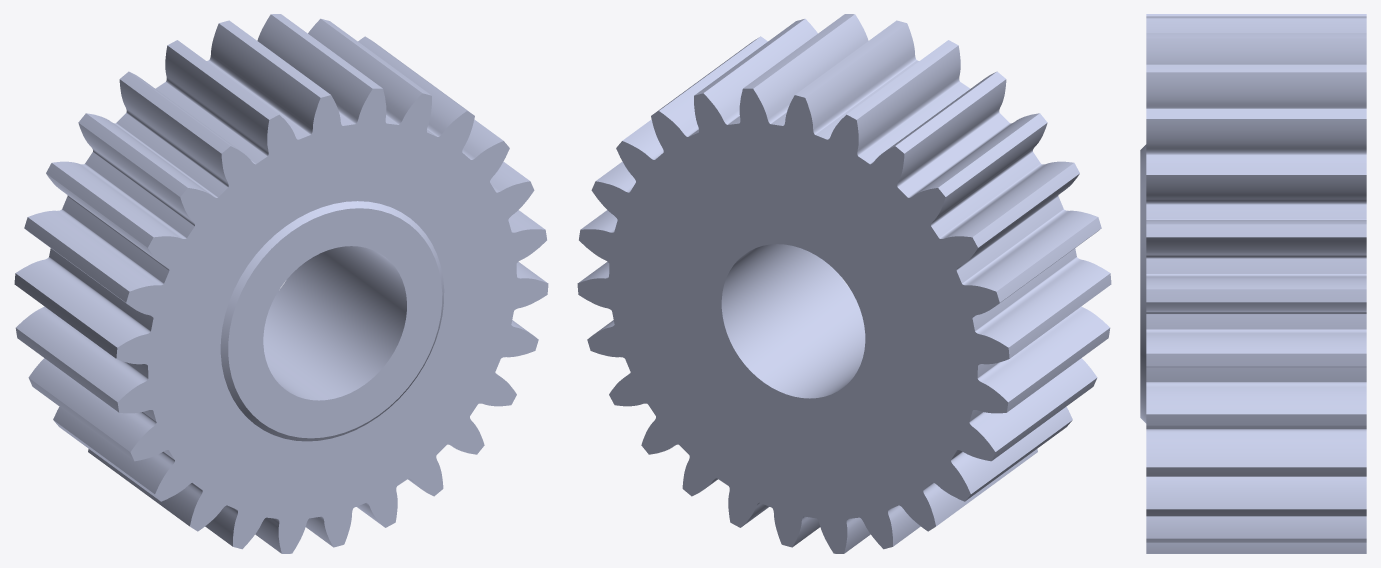
Rendered from REV_21_2103_P05_2_solid1.obj.
The picture shows the model from 3 angles, left to right: view 1: azimuth 30°, elevation 25°; view 2: azimuth 150°, elevation 25°; view 3: azimuth 270°, elevation 25°; orthographic projection. The views are drawn at different scales.
Parts seen in each view (by area): view 1: mesh26710, mesh26707, mesh26709, mesh26789, mesh26745, mesh26757, mesh26774, mesh26786, mesh26742, mesh26754, mesh26753, mesh26777 (+26 smaller); view 2: mesh26711, mesh26709, mesh26789, mesh26745, mesh26757, mesh26774, mesh26786, mesh26742, mesh26754, mesh26753, mesh26777, mesh26748 (+23 smaller); view 3: mesh26762, mesh26775, mesh26781, mesh26720, mesh26765, mesh26778, mesh26772, mesh26768, mesh26723, mesh26769, mesh26771, mesh26770 (+25 smaller).
Part boxes in pixels (x1,y1,x2,y2): mesh26710: (116,88,548,553); mesh26707: (228,208,442,438); mesh26709: (263,247,406,400); mesh26789: (209,23,320,134); mesh26745: (16,306,148,402); mesh26757: (15,257,150,347); mesh26774: (257,14,372,123); mesh26786: (165,45,269,156); mesh26742: (28,358,156,451); mesh26754: (28,209,163,291); mesh26753: (119,79,228,187); mesh26777: (308,18,422,124); mesh26711: (577,88,1009,553); mesh26709: (721,245,865,398); mesh26789: (805,23,916,134); mesh26745: (977,306,1109,402); mesh26757: (975,257,1110,347); mesh26774: (753,14,868,123); mesh26786: (856,45,960,156); mesh26742: (969,358,1097,451); mesh26754: (962,209,1097,291); mesh26753: (897,79,1006,187); mesh26777: (703,18,817,124); mesh26748: (939,161,1073,238); mesh26762: (1146,429,1366,467); mesh26775: (1146,72,1366,108); mesh26781: (1146,119,1366,155); mesh26720: (1146,476,1366,509); mesh26765: (1146,382,1366,414); mesh26778: (1146,175,1366,204); mesh26772: (1146,38,1366,64); mesh26768: (1146,329,1366,353); mesh26723: (1146,516,1366,538); mesh26769: (1146,237,1366,258); mesh26771: (1146,273,1366,289); mesh26770: (1146,258,1366,273).
Bounding box in the file's own units: 0.0182 × 0.0182 × 0.00762.
